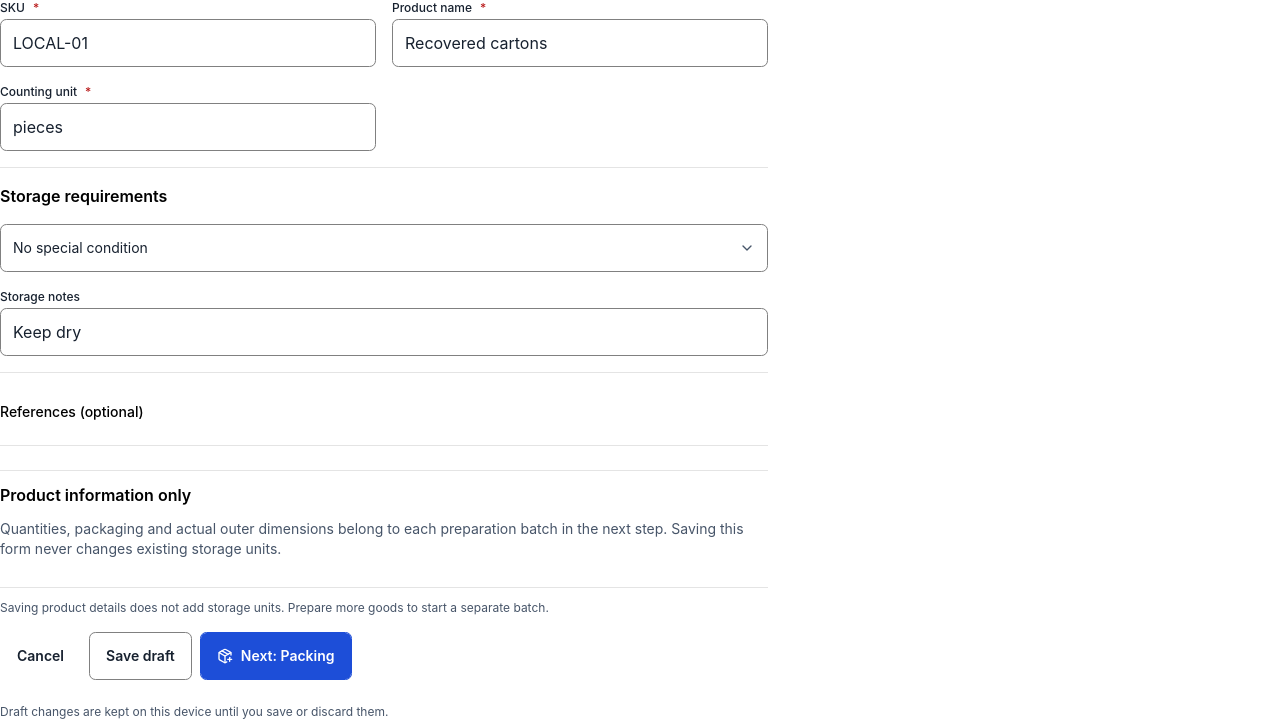
Test: finished good creation › restores local work after refresh and warns before discarding it
(page scrolled)
Expected: the field labelled "SKU" holds "LOCAL-01", [0, 19, 376, 67]
Click the button "Cancel": (40, 656) [0, 632, 81, 680]
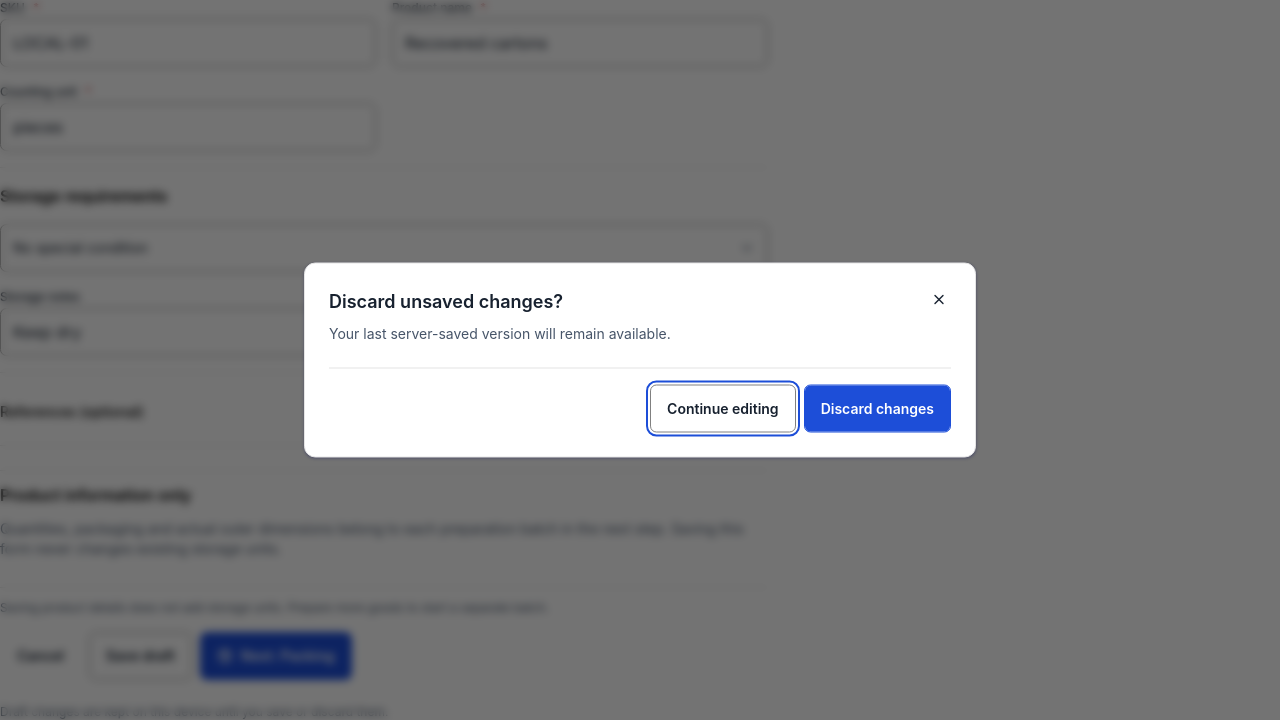
Expected: the dialog "Discard unsaved changes?" is shown, [304, 262, 976, 458]
